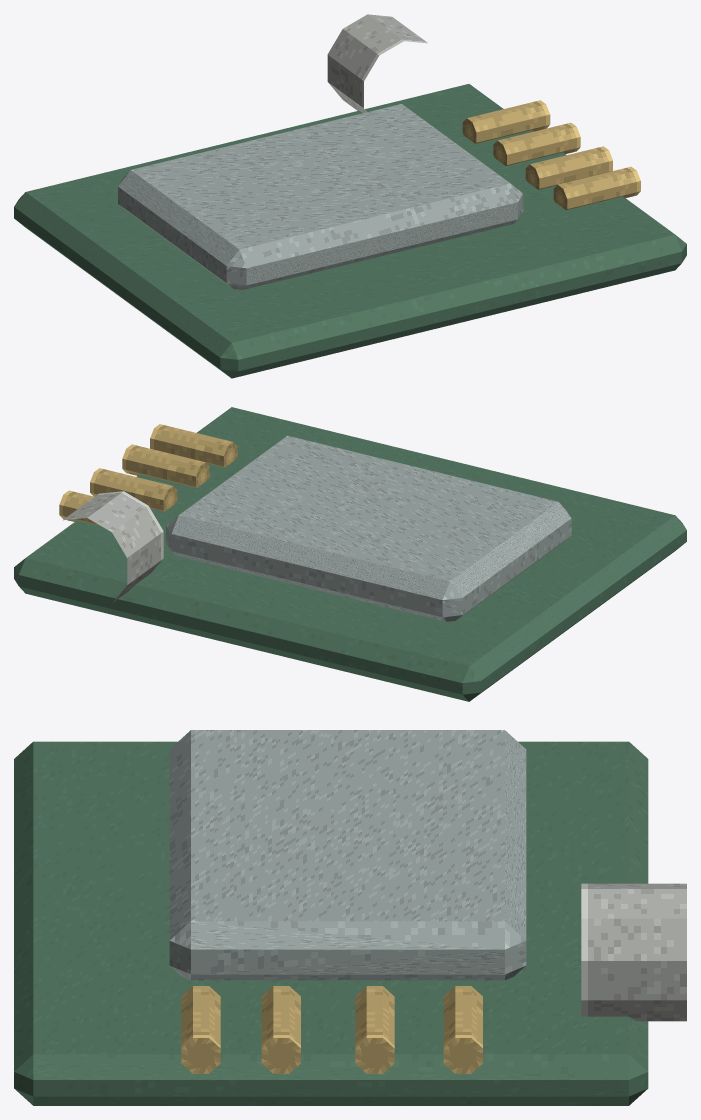
File: receiver.glb
The picture shows the model from 3 angles, top to bottom: view 1: azimuth 30°, elevation 25°; view 2: azimuth 150°, elevation 25°; view 3: azimuth 270°, elevation 25°; orthographic projection. The views are drawn at different scales.
Parts seen in each view (by area): view 1: block_circuit substrate, block_shield can, block_edge contact (×4), block_coax port; view 2: block_circuit substrate, block_shield can, block_edge contact (×4), block_coax port; view 3: block_circuit substrate, block_shield can, block_coax port, block_edge contact (×4).
Part boxes in pixels (x1,y1,x2,y2): block_circuit substrate: (14, 84, 686, 378); block_shield can: (118, 104, 523, 289); block_edge contact (×4): (462, 100, 640, 210); block_coax port: (327, 14, 427, 113); block_circuit substrate: (14, 407, 686, 701); block_shield can: (166, 435, 571, 621); block_edge contact (×4): (59, 424, 237, 525); block_coax port: (63, 491, 163, 602); block_circuit substrate: (14, 741, 648, 1105); block_shield can: (169, 730, 526, 980); block_coax port: (581, 883, 686, 1021); block_edge contact (×4): (181, 986, 482, 1073).
Size of the model in its own units: 0.1184 by 0.0265 by 0.1012.
Materials: 1 (1 with a texture image).
